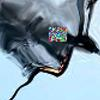faulty: (22, 45, 72, 77)
